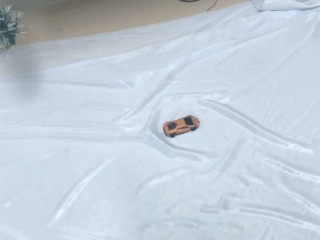toy_car: (163, 115, 200, 137)
